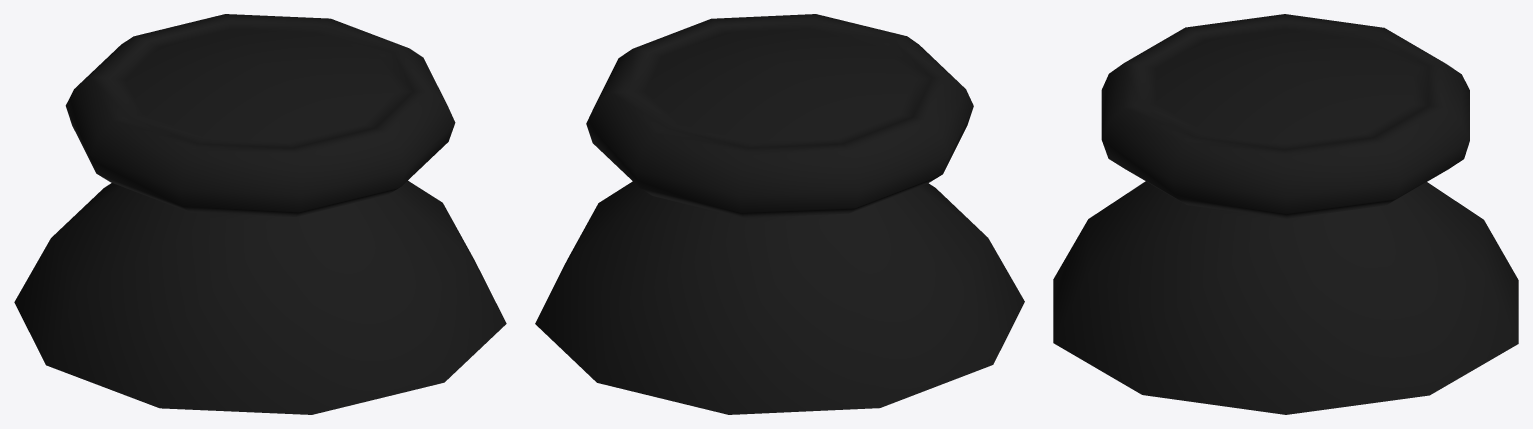
File: crystal_controller_right_button1.obj
3 views of the same model, side by side, from view 1: azimuth 30°, elevation 25°; view 2: azimuth 150°, elevation 25°; view 3: azimuth 270°, elevation 25° (orthographic).
Visible parts, largest first — view 1: crystal_controller_right_button1; view 2: crystal_controller_right_button1; view 3: crystal_controller_right_button1.
Boxes of the visible parts, x1=… form: crystal_controller_right_button1: x1=14, y1=14, x2=506, y2=414; crystal_controller_right_button1: x1=535, y1=14, x2=1024, y2=414; crystal_controller_right_button1: x1=1053, y1=14, x2=1518, y2=414.
Bounding box in the file's own units: 0.019 × 0.0106 × 0.0181.
Materials: 1 (1 with a texture image).
